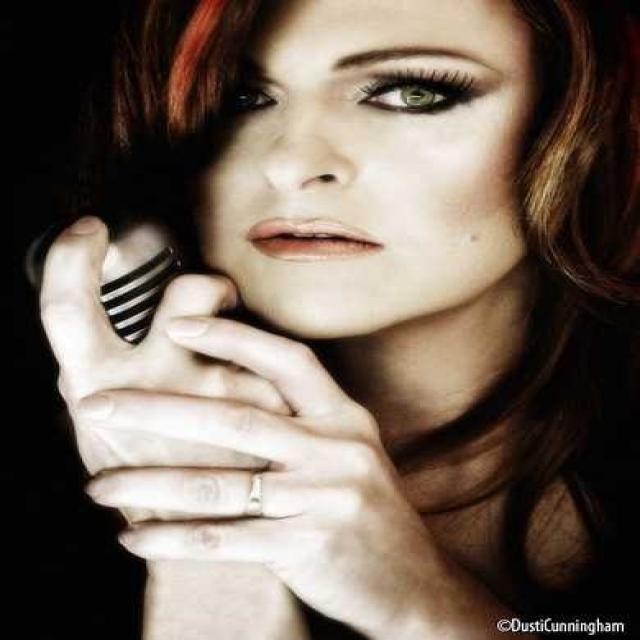microphone: (24, 210, 250, 424)
